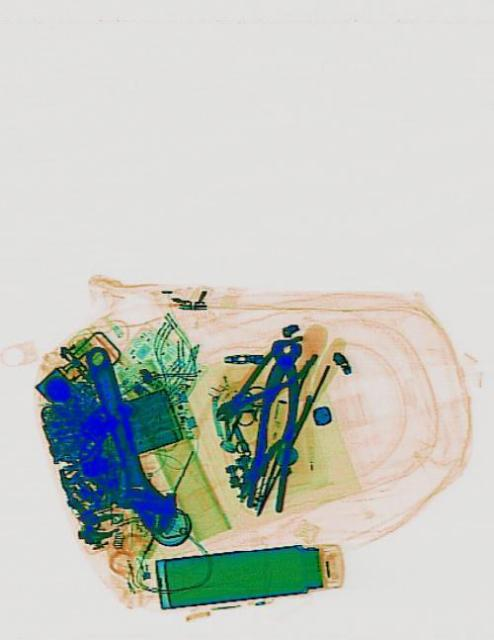Pliers: (203, 324, 319, 438), (241, 334, 307, 514)
Wrench: (67, 332, 180, 548)
